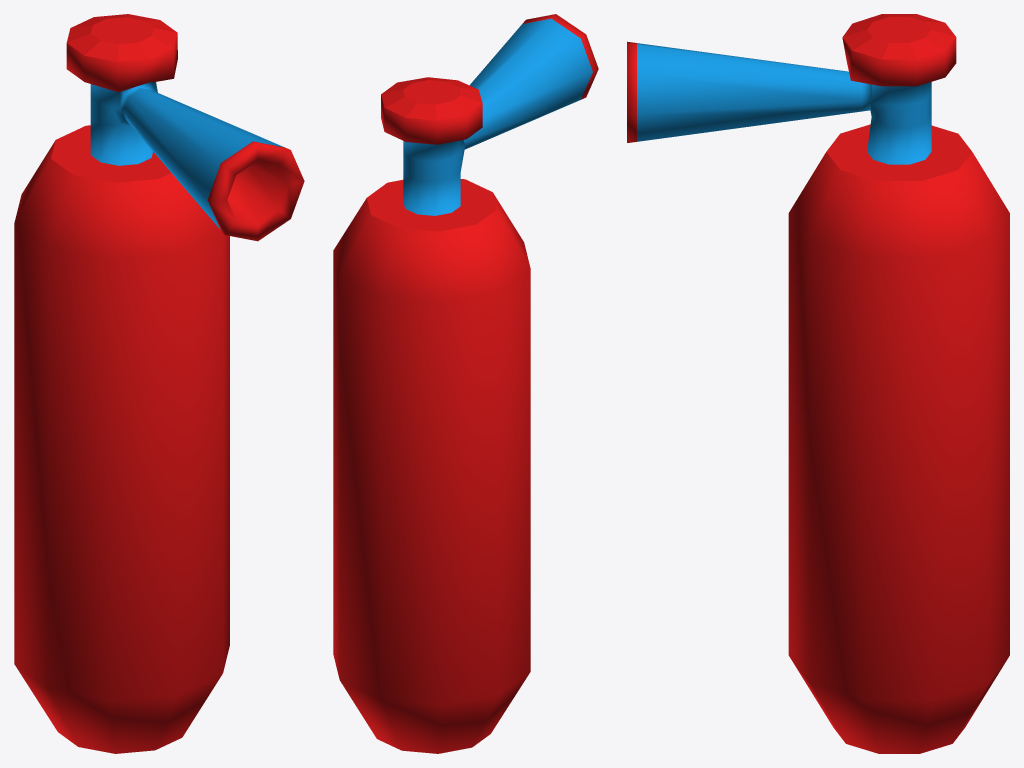
The model's file is Fireextinguisher.fbx.
3 views of the same model, side by side, from view 1: azimuth 30°, elevation 25°; view 2: azimuth 150°, elevation 25°; view 3: azimuth 270°, elevation 25° (orthographic). The views are drawn at different scales.
Visible parts, largest first — view 1: Cylinder; view 2: Cylinder; view 3: Cylinder.
Boxes of the visible parts, box(x1,y1,x2,y2) form: Cylinder: box(14, 14, 304, 753); Cylinder: box(333, 14, 598, 753); Cylinder: box(627, 14, 1009, 753).
Bounding box in the file's own units: 32.34 × 118 × 58.84.
